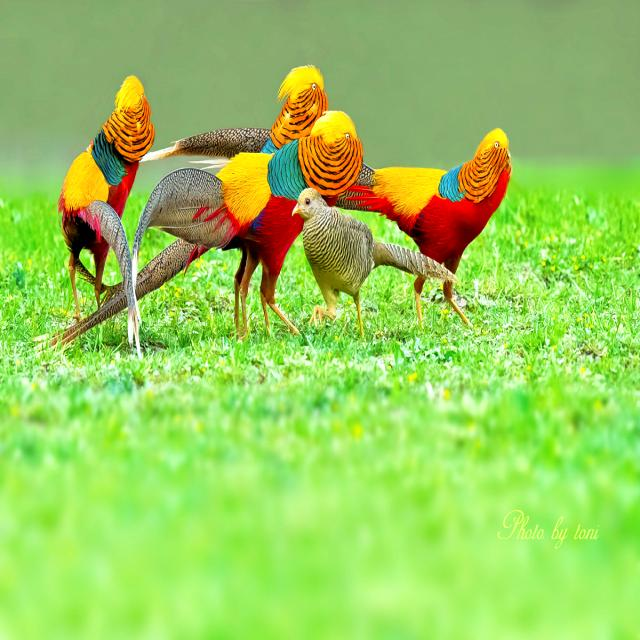Chrysolophus pictus feather: (60, 128, 306, 349)
